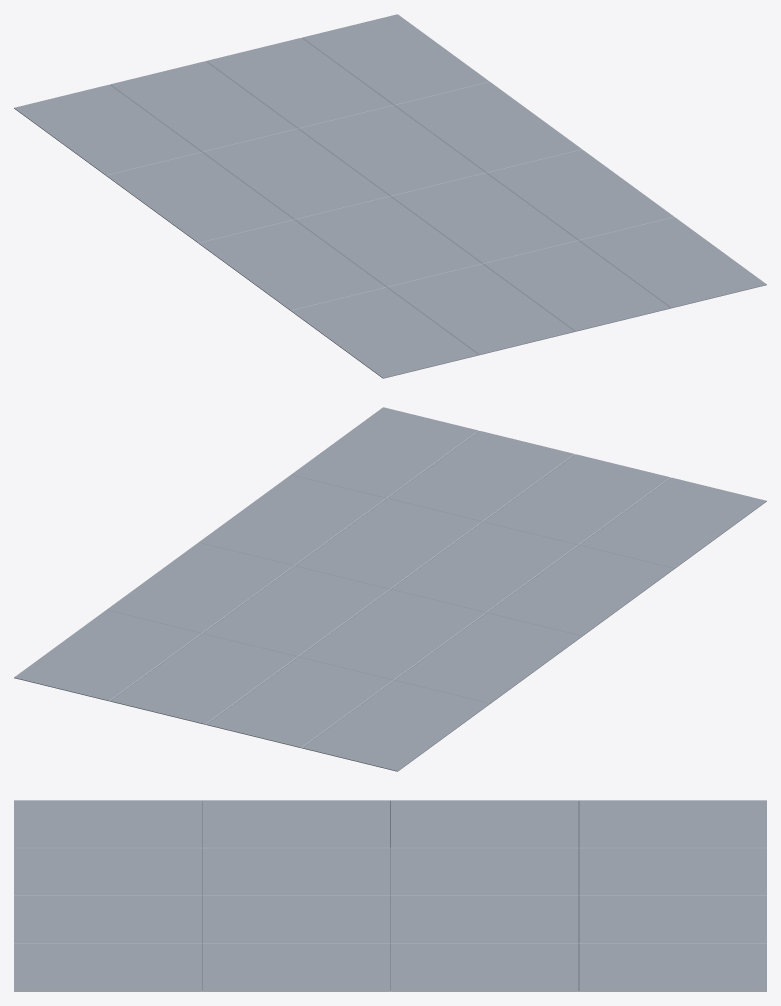
File: Gym_floor.fbx
3 renders of one model, top to bottom at view 1: azimuth 30°, elevation 25°; view 2: azimuth 150°, elevation 25°; view 3: azimuth 270°, elevation 25°, orthographic.
Visible parts, largest first — view 1: Gym_floor; view 2: Gym_floor; view 3: Gym_floor.
Boxes of the visible parts, bbox=[...] form: Gym_floor: bbox=[14, 14, 766, 378]; Gym_floor: bbox=[14, 407, 766, 771]; Gym_floor: bbox=[14, 800, 766, 991].
Bounding box in the file's own units: 1200 × 2 × 2000.
